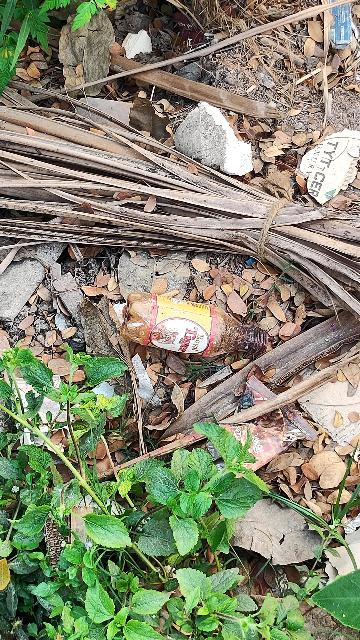bottle: (110, 283, 282, 364)
